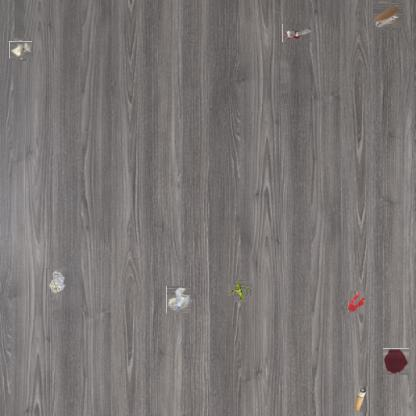dirty: (374, 2, 402, 30), (166, 286, 192, 313), (282, 24, 313, 42), (46, 268, 66, 294), (10, 39, 31, 60), (353, 386, 369, 412), (231, 281, 249, 299)
liquid: (383, 349, 410, 375), (348, 291, 366, 313)
